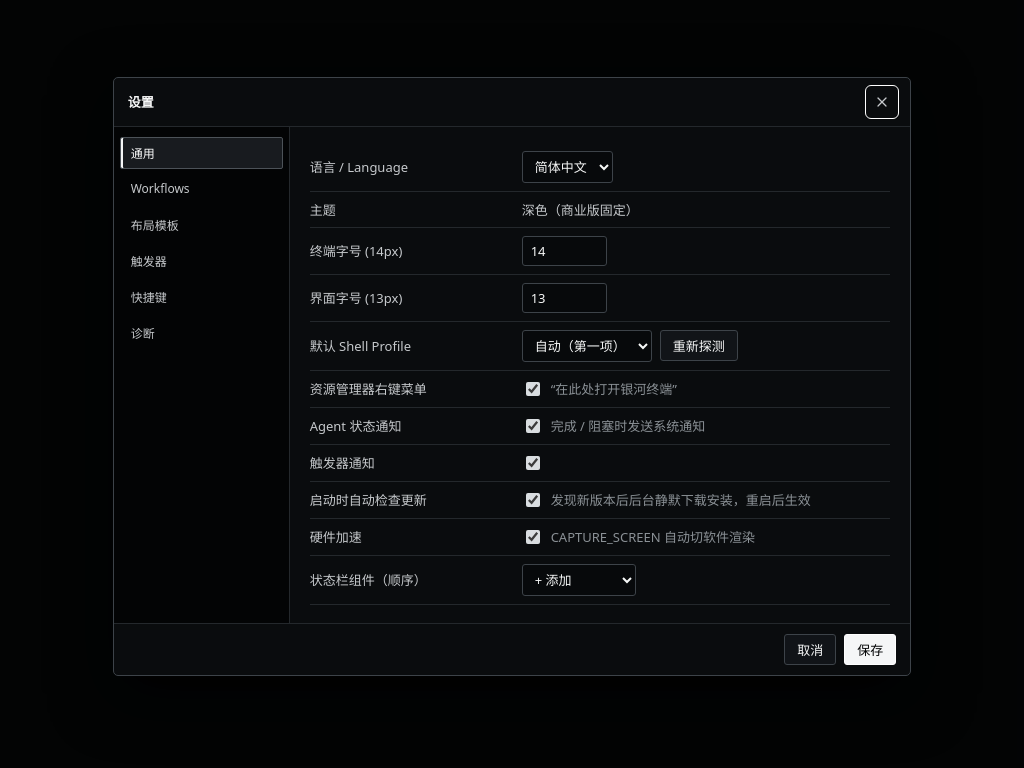
Test case: settings chapter navigation › places global hotkey capture under the shortcuts chapter, not general
The image size is (1024, 768).
Expected: the text "全局热键" is not shown
Click the button "快捷键" at [201, 297], box [120,281,283,313]
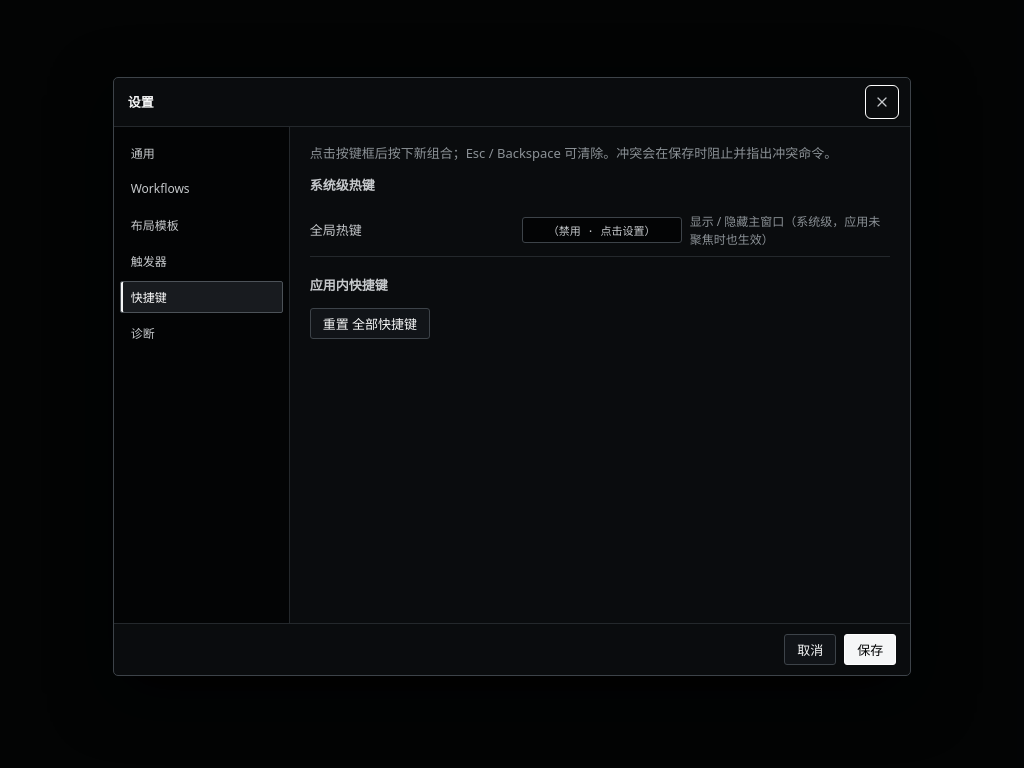
Expected: the text "全局热键" is shown, [310,221,362,239]
Expected: the button "（禁用 · 点击设置）" is shown, [522,217,682,243]
